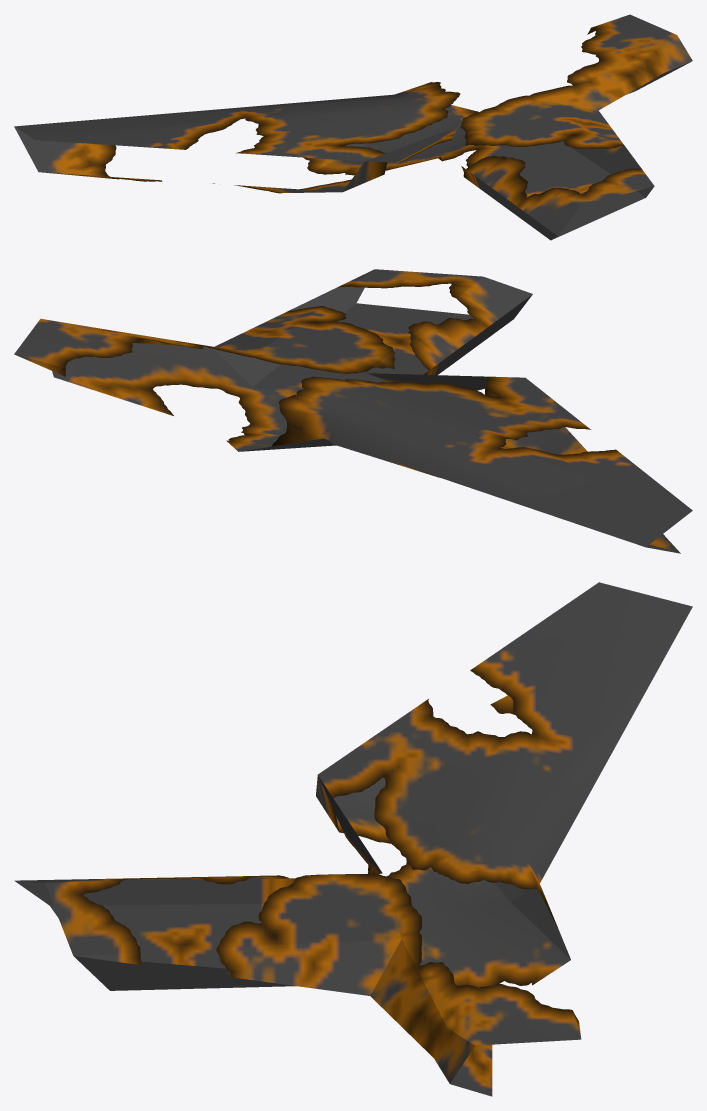
The model's file is DefaultChunk004.fbx.
3 views of the same model, one above another, from view 1: azimuth 30°, elevation 25°; view 2: azimuth 150°, elevation 25°; view 3: azimuth 270°, elevation 25° (orthographic). The views are drawn at different scales.
Visible parts, largest first — view 1: chunk004; view 2: chunk004; view 3: chunk004.
Part boxes in pixels (bbox=[...]): chunk004: bbox=[14, 14, 692, 240]; chunk004: bbox=[14, 269, 692, 553]; chunk004: bbox=[14, 582, 692, 1096].
Bounding box in the file's own units: 413 × 41.91 × 263.
Materials: 1 (1 with a texture image).
